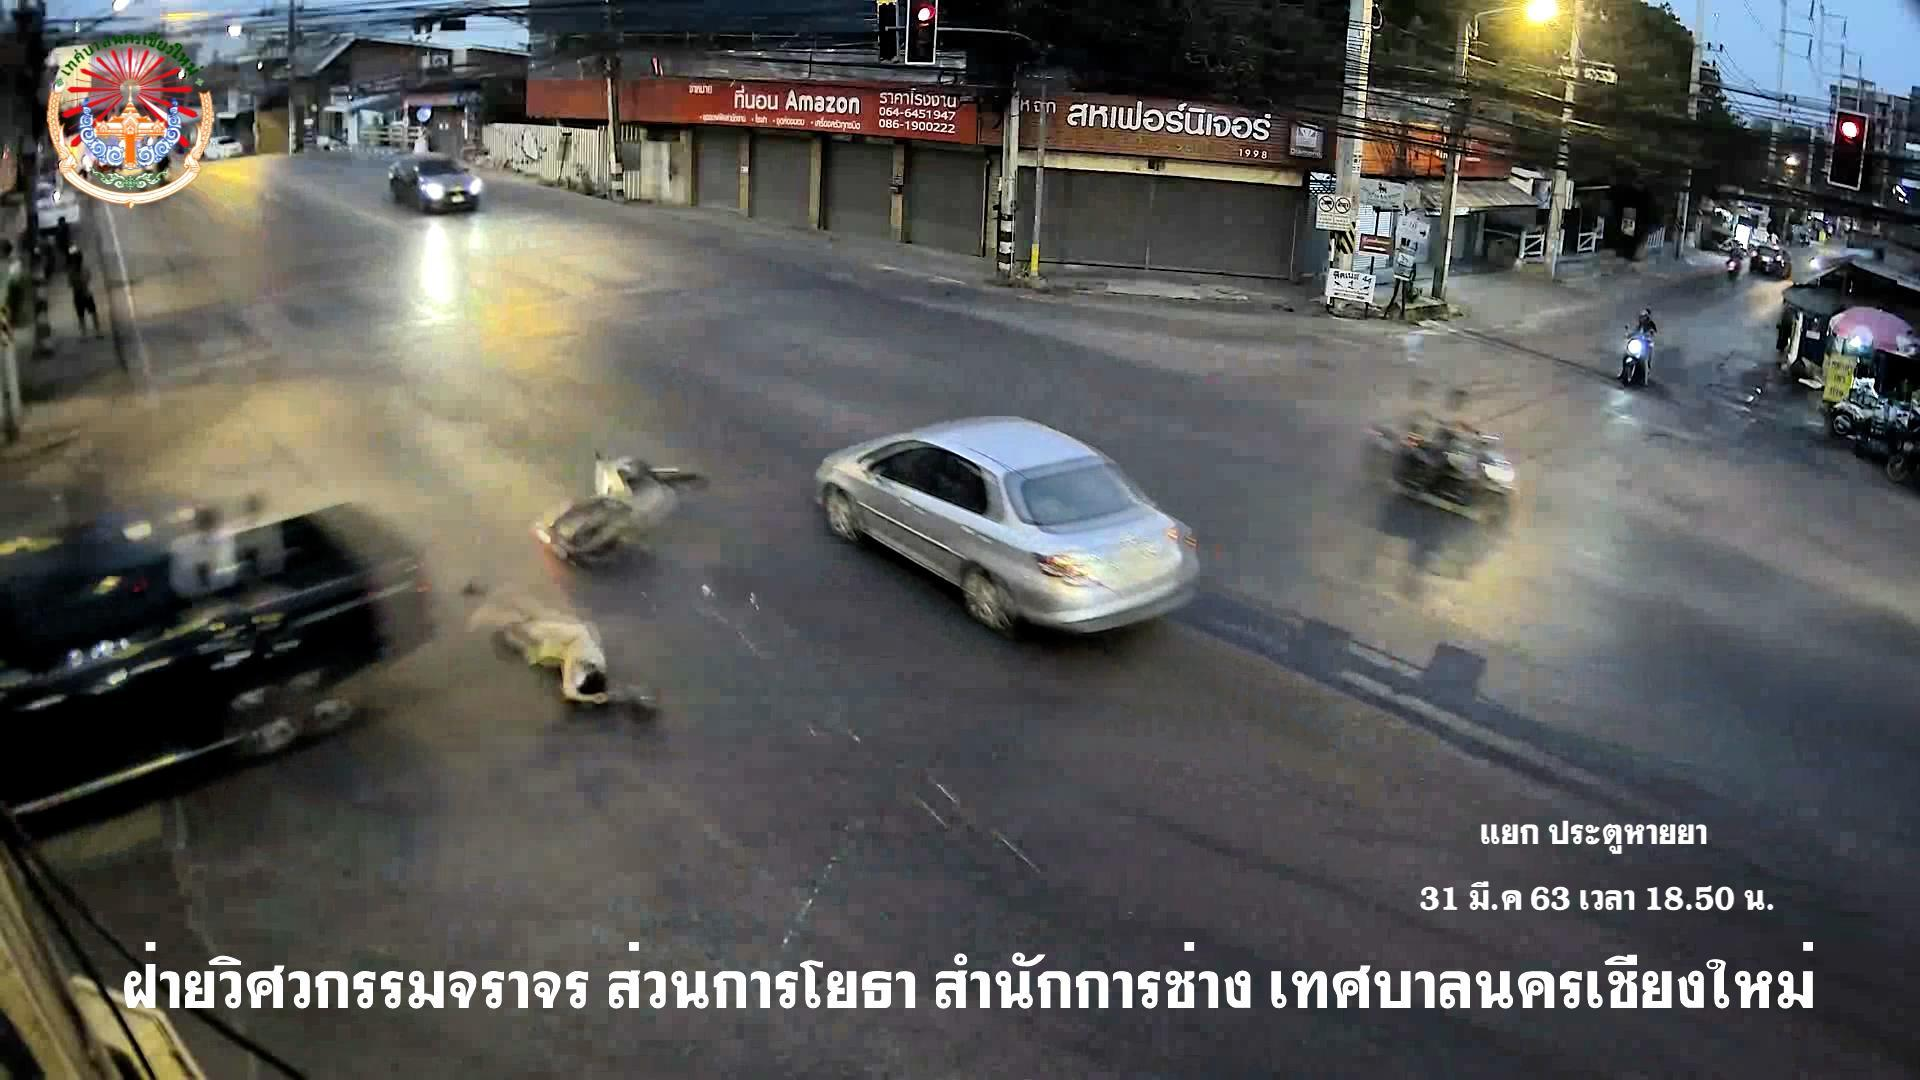accident: (484, 601, 645, 725)
